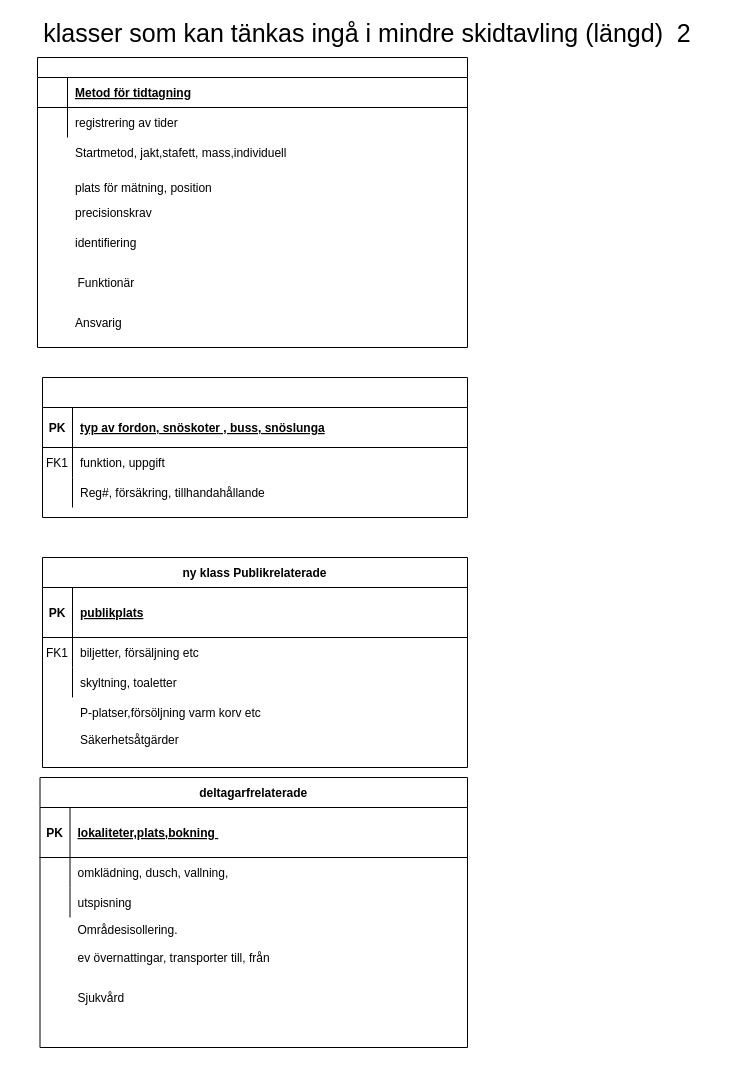
Image size: 734x1065. Some labels were removed from this diagram. The box of each missing label's shape, as (x1, y1, x2, y2) in pixels:
ny klass Fordon för genomförade av tävling: (42, 376, 468, 518)
ny klass Tidtagningsutrustning: (36, 56, 468, 348)
